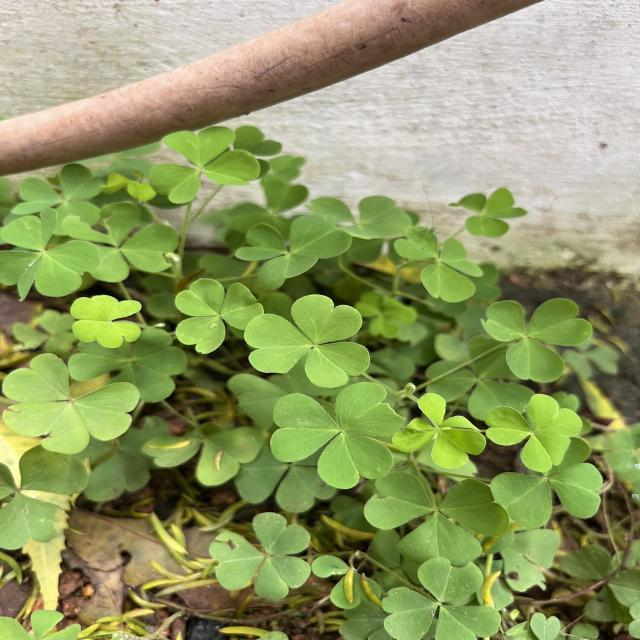Oxalis corniculata: (269, 381, 407, 490), (1, 352, 142, 456), (362, 470, 510, 567), (244, 294, 370, 389), (381, 556, 503, 640), (479, 296, 594, 384), (0, 207, 103, 303), (208, 510, 312, 600), (234, 213, 354, 290), (149, 126, 262, 204), (483, 392, 584, 473), (392, 392, 488, 470), (392, 225, 485, 303), (174, 277, 266, 355), (448, 187, 530, 240), (70, 294, 143, 349)
